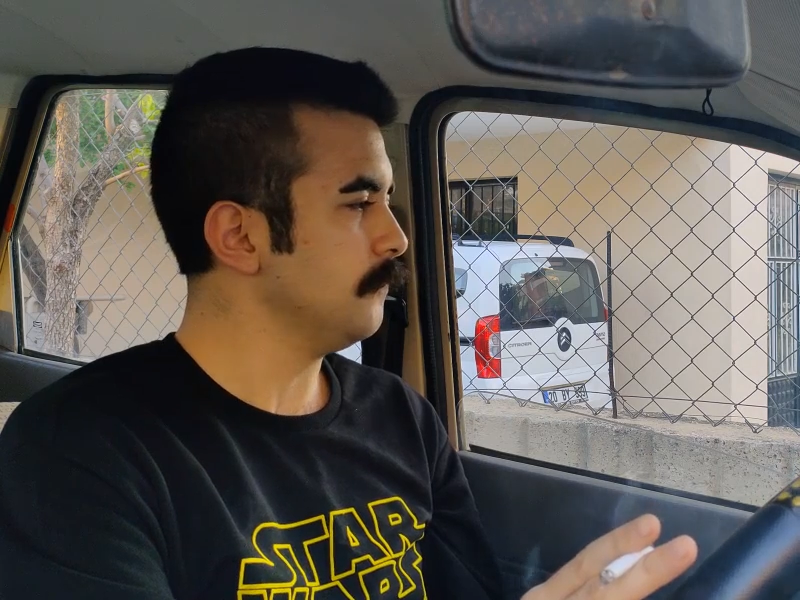sigara: (597, 543, 657, 587)
